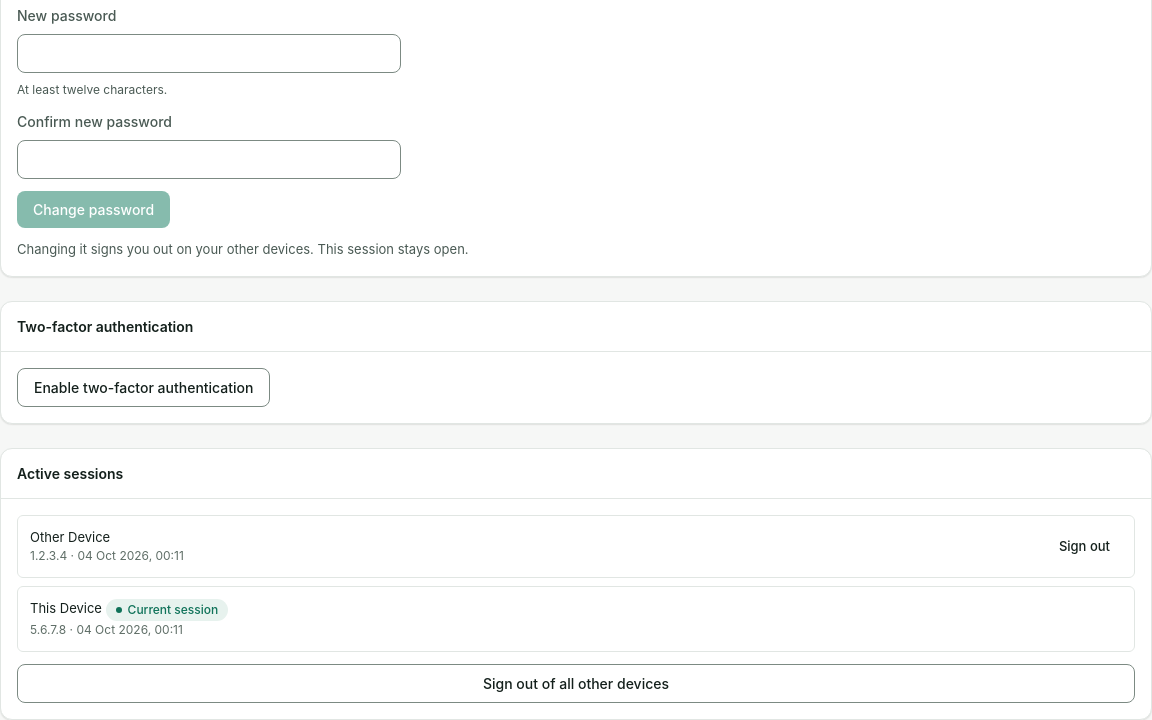
it: SettingsPage session revoke flow › shows a success toast once all other sessions are revoked
(page scrolled)
Click the button "Sign out of all other devices". click: click(576, 684)
box: [17, 664, 1135, 703]
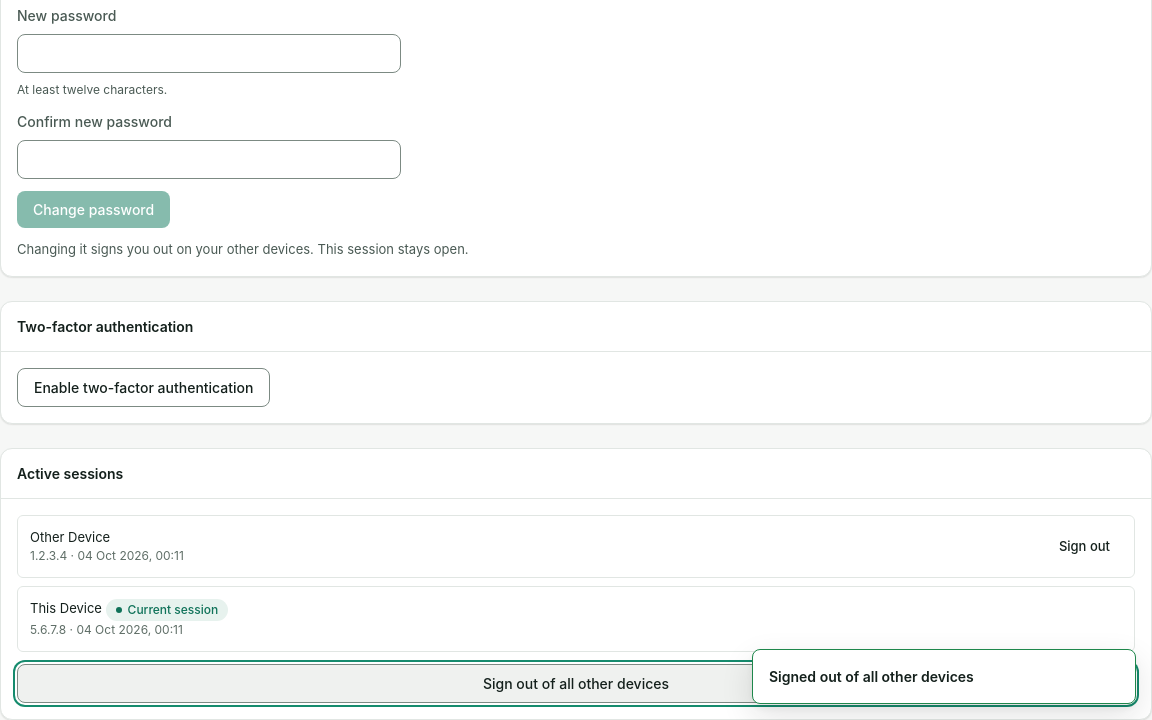
Check: the text "Signed out of all other devices" is shown, box [769, 668, 974, 685]
